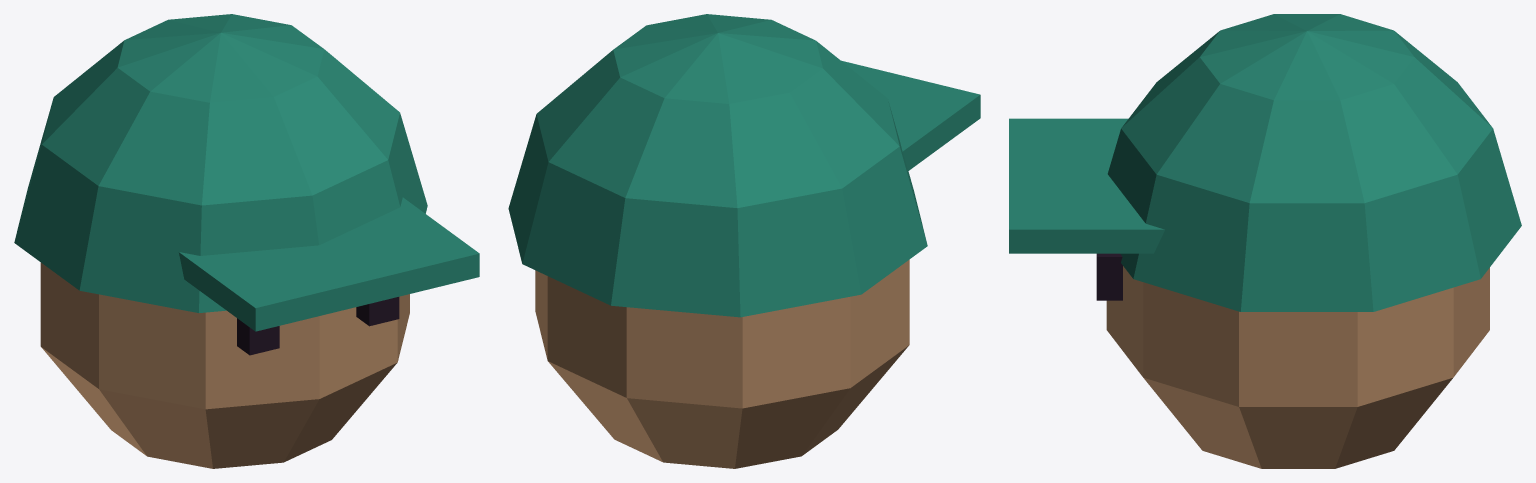
File: head_glazier.gltf
3 renders of one model, left to right at view 1: azimuth 30°, elevation 25°; view 2: azimuth 150°, elevation 25°; view 3: azimuth 270°, elevation 25°, orthographic.
Visible parts, largest first — view 1: cap, skin, peak, eyes; view 2: cap, skin, peak; view 3: cap, skin, peak, eyes.
Boxes of the visible parts, x1,y1,x2,y2 form: cap: (14,14,427,312); skin: (40,262,409,468); peak: (178,197,479,331); eyes: (237,297,399,355); cap: (508,14,927,317); skin: (535,259,909,468); peak: (841,60,980,170); cap: (1107,14,1521,311); skin: (1106,266,1489,468); peak: (1009,118,1164,253); eyes: (1096,253,1122,300).
Bounding box in the file's own units: 0.466 × 0.535 × 0.585.
